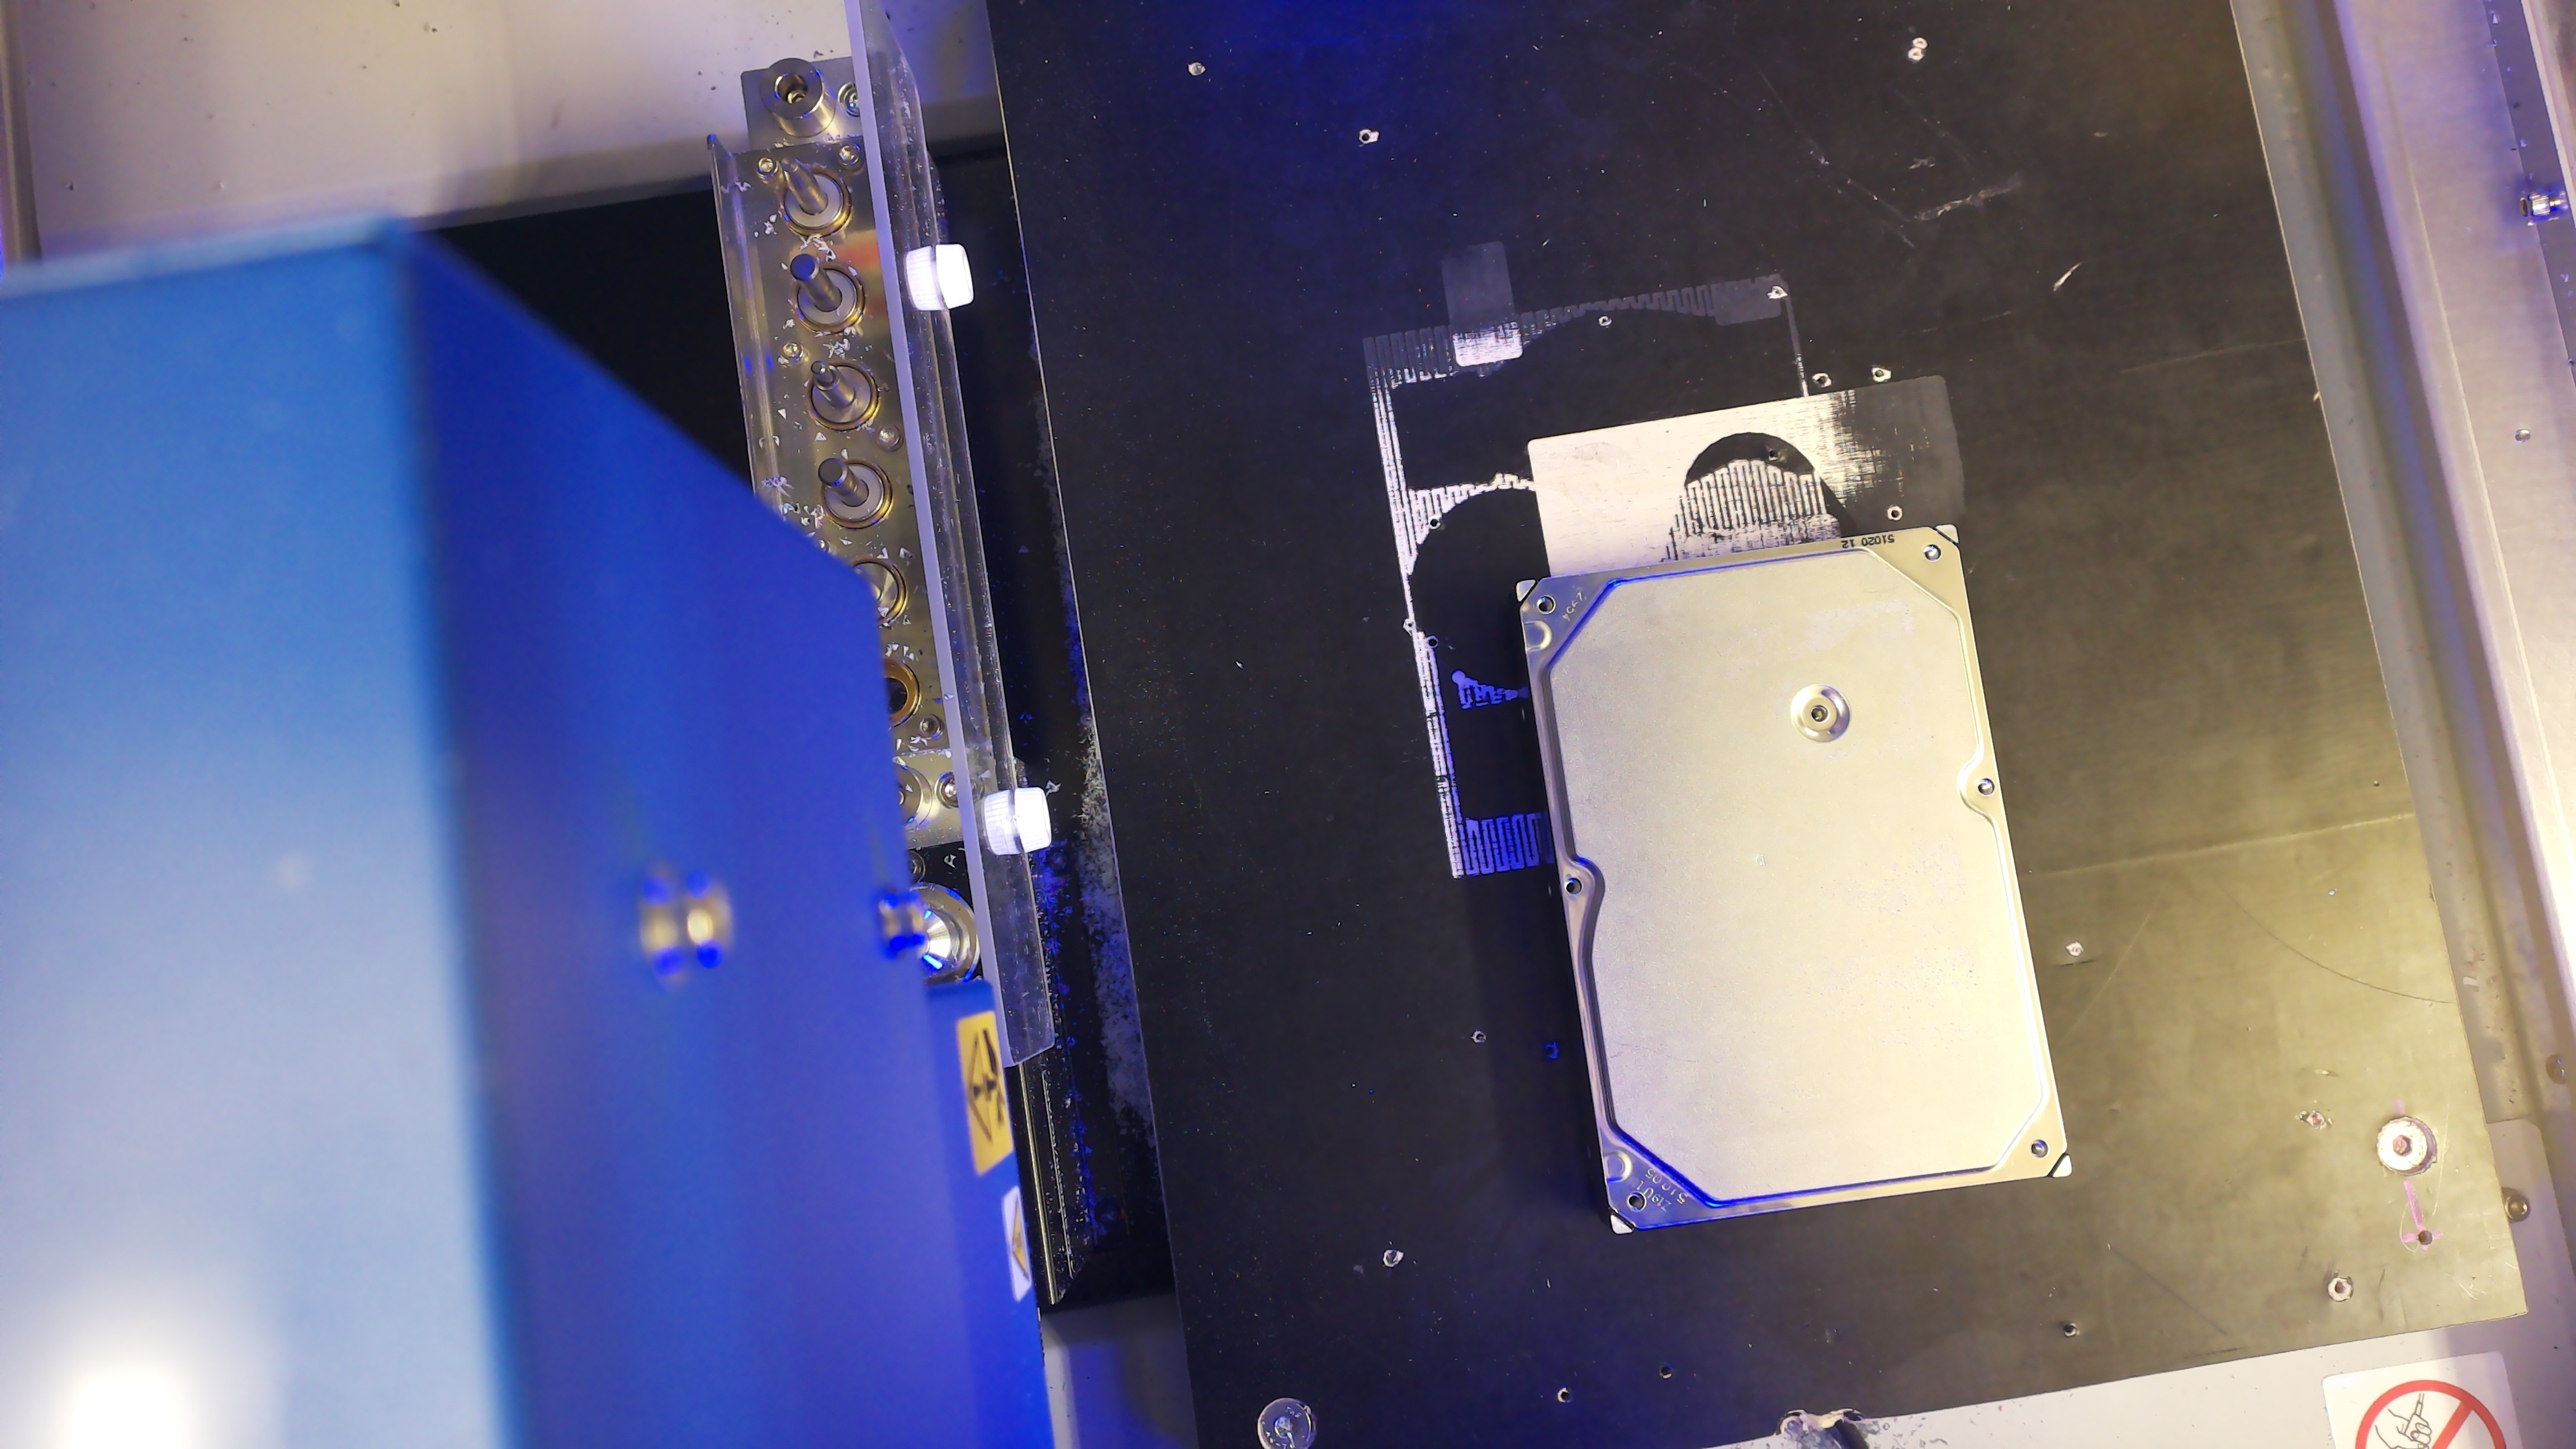Hole: (1974, 777, 1996, 798), (1626, 1191, 1647, 1212), (1536, 594, 1557, 614), (2029, 1138, 2049, 1159), (1923, 543, 1941, 563), (1810, 704, 1829, 722), (1564, 878, 1583, 895)
